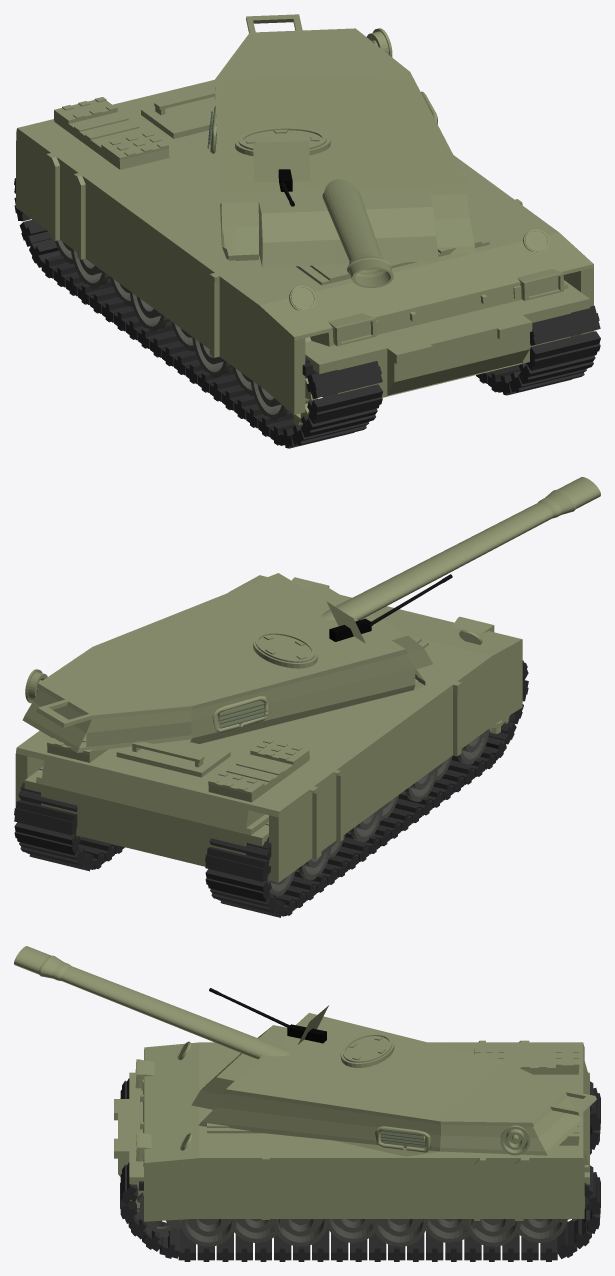
File: mbt.glb
3 views of the same model, one above another, from view 1: azimuth 30°, elevation 25°; view 2: azimuth 150°, elevation 25°; view 3: azimuth 270°, elevation 25° (orthographic). The views are drawn at different scales.
Visible parts, largest first — view 1: Cube, Cube.001, Cube.002, Cube.006, Cube.007, Circle.020, Plane.002, Cylinder, Cube.010, Cube.011, Cube.012, Circle.003 (+3 smaller); view 2: Cube, Cube.001, Circle.020, Cube.002, Cube.010, Cube.005, Cylinder, Cube.006, Cube.009, Cylinder.030, Circle.003, Circle.004; view 3: Cube, Cube.001, Cube.009, Circle.020, Cube.007, Cube.005, Cylinder, Circle.014, Circle.016, Circle.015, Circle.019, Circle.010 (+8 smaller).
Part boxes in pixels (<box>): Cube: <box>16,79,593,414</box>; Cube.001: <box>215,14,475,267</box>; Cube.002: <box>41,255,295,445</box>; Cube.006: <box>280,361,382,448</box>; Cube.007: <box>497,305,600,395</box>; Circle.020: <box>322,179,393,287</box>; Plane.002: <box>253,141,310,182</box>; Cylinder: <box>235,127,330,156</box>; Cube.010: <box>14,178,60,267</box>; Cube.011: <box>328,313,376,346</box>; Cube.012: <box>517,269,563,300</box>; Circle.003: <box>129,291,171,332</box>; Cube: <box>15,575,522,882</box>; Cube.001: <box>22,573,432,752</box>; Circle.020: <box>321,477,600,620</box>; Cube.002: <box>276,750,495,915</box>; Cube.010: <box>205,824,286,917</box>; Cube.005: <box>14,769,95,871</box>; Cylinder: <box>253,632,317,668</box>; Cube.006: <box>484,660,528,760</box>; Cube.009: <box>78,836,124,869</box>; Cylinder.030: <box>212,696,270,732</box>; Circle.003: <box>347,806,383,842</box>; Circle.004: <box>402,766,438,801</box>; Cube: <box>114,1040,589,1221</box>; Cube.001: <box>191,1013,596,1156</box>; Cube.009: <box>178,1228,557,1261</box>; Circle.020: <box>14,946,290,1059</box>; Cube.007: <box>120,1162,179,1258</box>; Cube.005: <box>557,1165,600,1258</box>; Cylinder: <box>340,1033,394,1067</box>; Circle.014: <box>180,1219,236,1246</box>; Circle.016: <box>371,1219,428,1246</box>; Circle.015: <box>272,1219,328,1246</box>; Circle.019: <box>465,1219,521,1246</box>; Circle.010: <box>512,1219,567,1242</box>.
Size of the model in its own units: 2.32 by 1.66 by 4.39.
